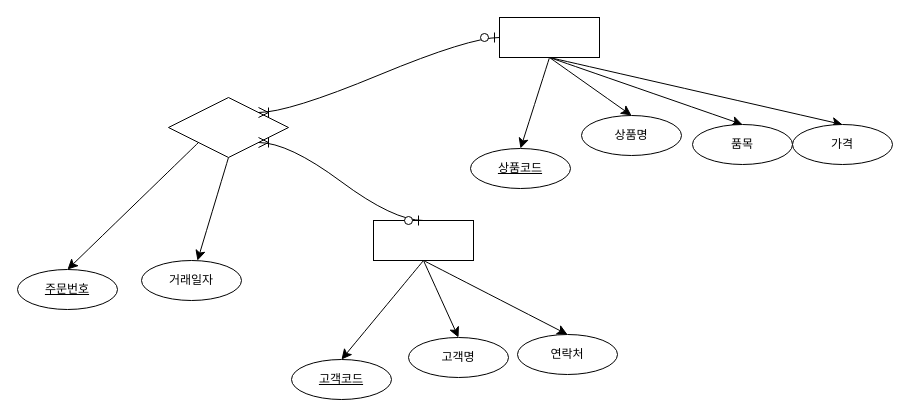
Image size: 910x417. Some labels were removed from this diagram. The centre of each missing label's shape, as x and y in pixels:
"고객정보" belongs at point (423, 240).
"상품정보" belongs at point (549, 37).
"주문내역" belongs at point (228, 127).
